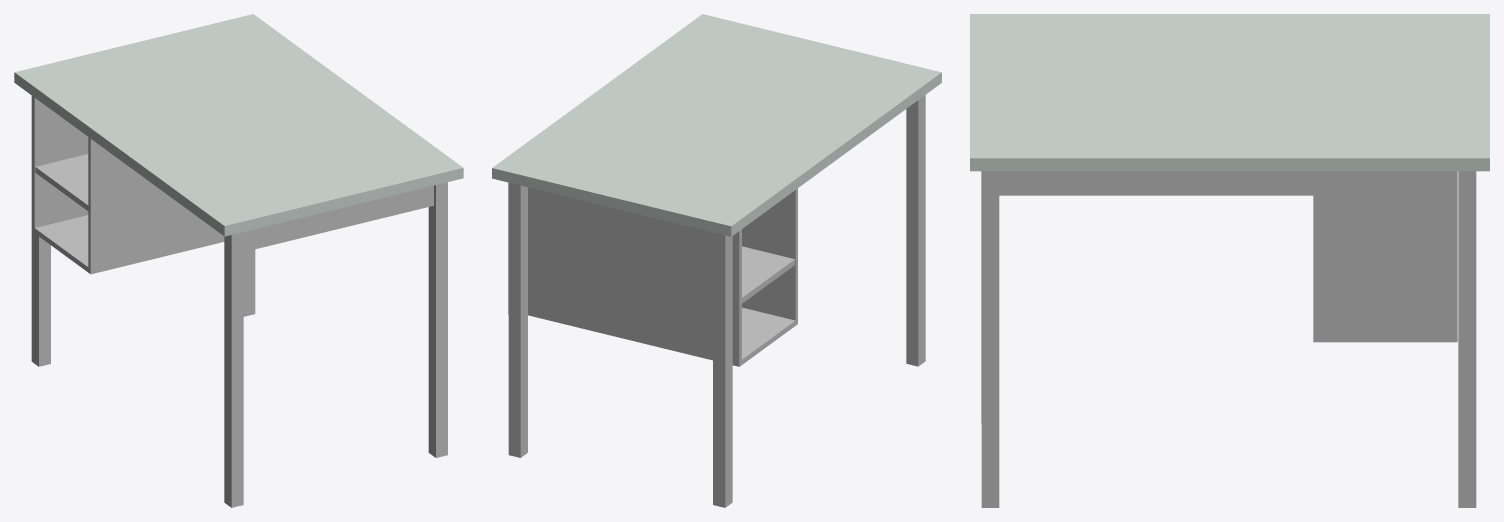
Rendered from SM_Table_A_03.fbx.
The picture shows the model from 3 angles, left to right: view 1: azimuth 30°, elevation 25°; view 2: azimuth 150°, elevation 25°; view 3: azimuth 270°, elevation 25°; orthographic projection. The views are drawn at different scales.
Visible parts, largest first — view 1: SM_Table_A_03; view 2: SM_Table_A_03; view 3: SM_Table_A_03.
Boxes of the visible parts, box(x1,y1,x2,y2) form: SM_Table_A_03: box(14, 14, 463, 507); SM_Table_A_03: box(492, 14, 941, 507); SM_Table_A_03: box(970, 14, 1489, 507).
Bounding box in the file's own units: 88.96 × 102 × 136.
